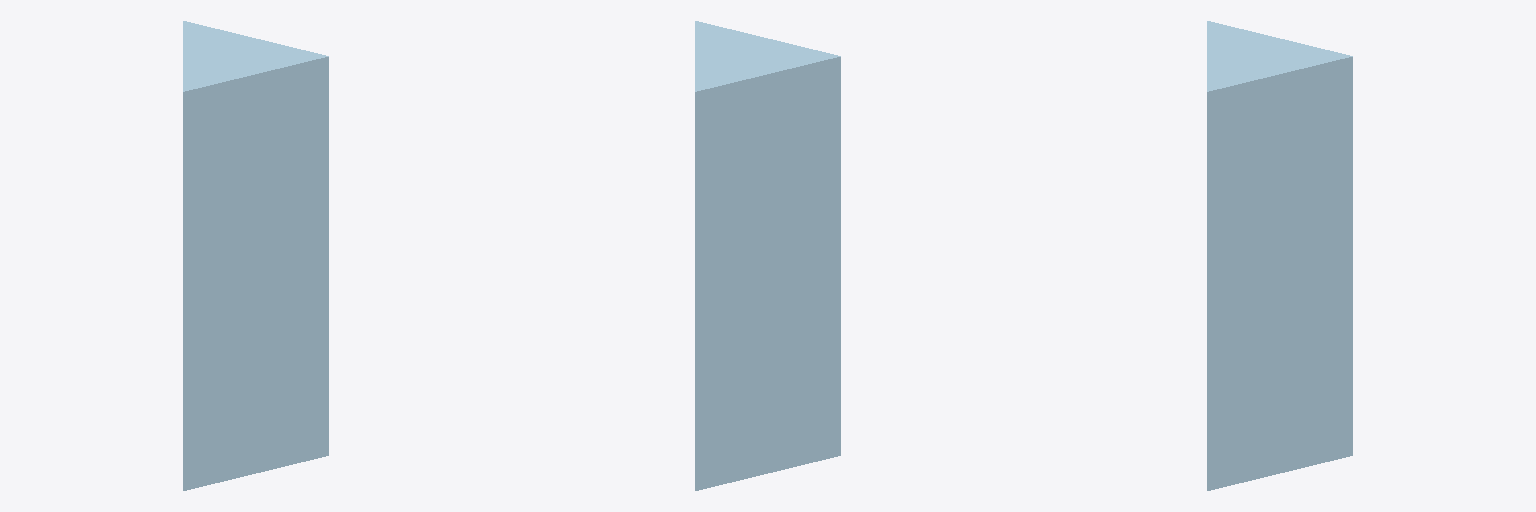
The robot description file, URDF, robot "triangle_05_15":
<?xml version="1.0"?>
<robot name="triangle_05_15">
    <link name="triangle_05_15">
        <visual>
            <origin xyz="0 -6.8433668797345317825e-05 0" rpy="-1.570796326794896558 -1.570796326794896558 0" />
            <geometry>
            <mesh filename="separate_wall_shapes_small/shape_objects/object_triangle_05_15.obj"/>
            </geometry>
            <material name="triangle_05_15_material">
            <color rgba="0.76862745098039220171 0.88627450980392152857 0.95294117647058818044 1.0"/>
            </material>
        </visual>
        <collision>
            <origin xyz="0 -6.8433668797345317825e-05 0" rpy="-1.570796326794896558 -1.570796326794896558 0" />
            <geometry>
            <mesh filename="separate_wall_shapes_small/shape_objects/object_triangle_05_15.obj"/>
            </geometry>
        </collision>
        <inertial>
            <origin xyz="0 -3.3333333332159591211e-08 0" rpy="0 0 0"/>
            <mass value="0.375" />
            <inertia ixx="0.0011685328885785860493" ixy="0"  ixz="0" iyy="0.0011685328885785858325" iyz="0" izz="0.00016117695014877057836" />
        </inertial>
    </link>


</robot>

--- Facts derived from the render (not from the file) ---
The picture shows the robot from 3 angles, left to right: view 1: azimuth 30°, elevation 25°; view 2: azimuth 150°, elevation 25°; view 3: azimuth 270°, elevation 25°; orthographic projection.
Robot: triangle_05_15 — 1 links, 0 joints (none); root link triangle_05_15; default pose: every joint at zero.
Visible links, largest first — view 1: triangle_05_15; view 2: triangle_05_15; view 3: triangle_05_15.
Boxes of the visible links, x1,y1,x2,y2 form: triangle_05_15: (183, 21, 328, 490); triangle_05_15: (695, 21, 840, 490); triangle_05_15: (1207, 21, 1352, 490).
Size in the robot's own frame: 0.0577 by 0.05 by 0.15 metres.
1 mesh visuals loaded from 1 distinct referenced files (1 OBJ).